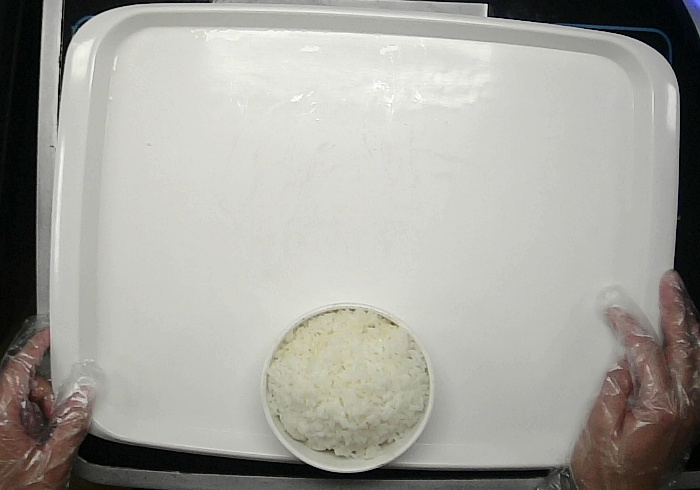HZYJPL-Fan_Wan: (258, 300, 435, 472)
